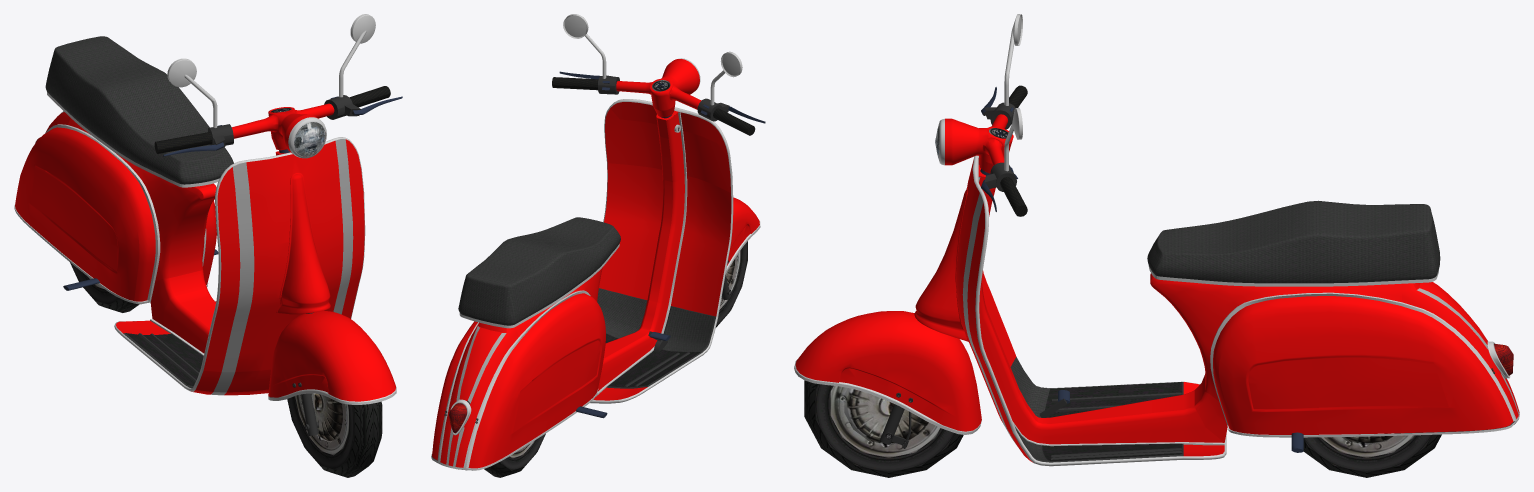
Rendered from Motorcycle_4.FBX.
3 views of the same model, side by side, from view 1: azimuth 30°, elevation 25°; view 2: azimuth 150°, elevation 25°; view 3: azimuth 270°, elevation 25° (orthographic). The views are drawn at different scales.
Visible parts, largest first — view 1: Body, Steer, Wheel_F, Wheel_B; view 2: Body, Steer, Wheel_F, Wheel_B; view 3: Body, Steer, Wheel_F, Wheel_B.
Boxes of the visible parts, x1,y1,x2,y2 form: Body: [14, 36, 365, 395]; Steer: [154, 14, 402, 435]; Wheel_F: [287, 393, 382, 477]; Wheel_B: [70, 262, 139, 312]; Body: [431, 99, 733, 470]; Steer: [552, 14, 765, 299]; Wheel_F: [716, 241, 747, 327]; Wheel_B: [484, 433, 545, 477]; Body: [914, 155, 1519, 466]; Steer: [794, 14, 1027, 448]; Wheel_F: [804, 380, 963, 477]; Wheel_B: [1303, 434, 1441, 477].
Bounding box in the file's own units: 27.96 × 43.55 × 69.24.
4 materials, 2 textured.
